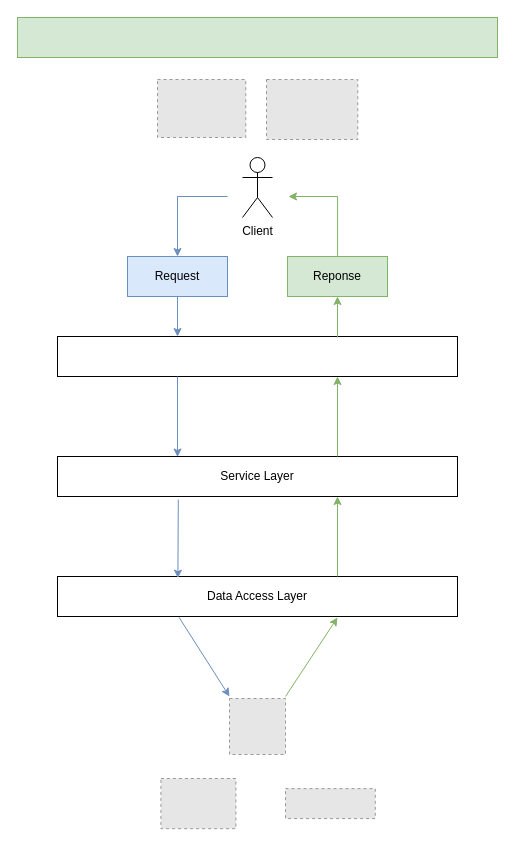
This 515x847 diagram has some shape labels left out. Grey dashed boxes stand in for pictures. Each missing label, with the centre of its shape:
"API Layer / Controller Layer" goes at (257,356).
"Serveur Spring Boot" goes at (257,37).
